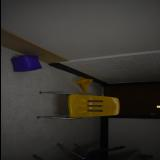cone: (9, 54, 42, 72), (74, 78, 92, 92)
